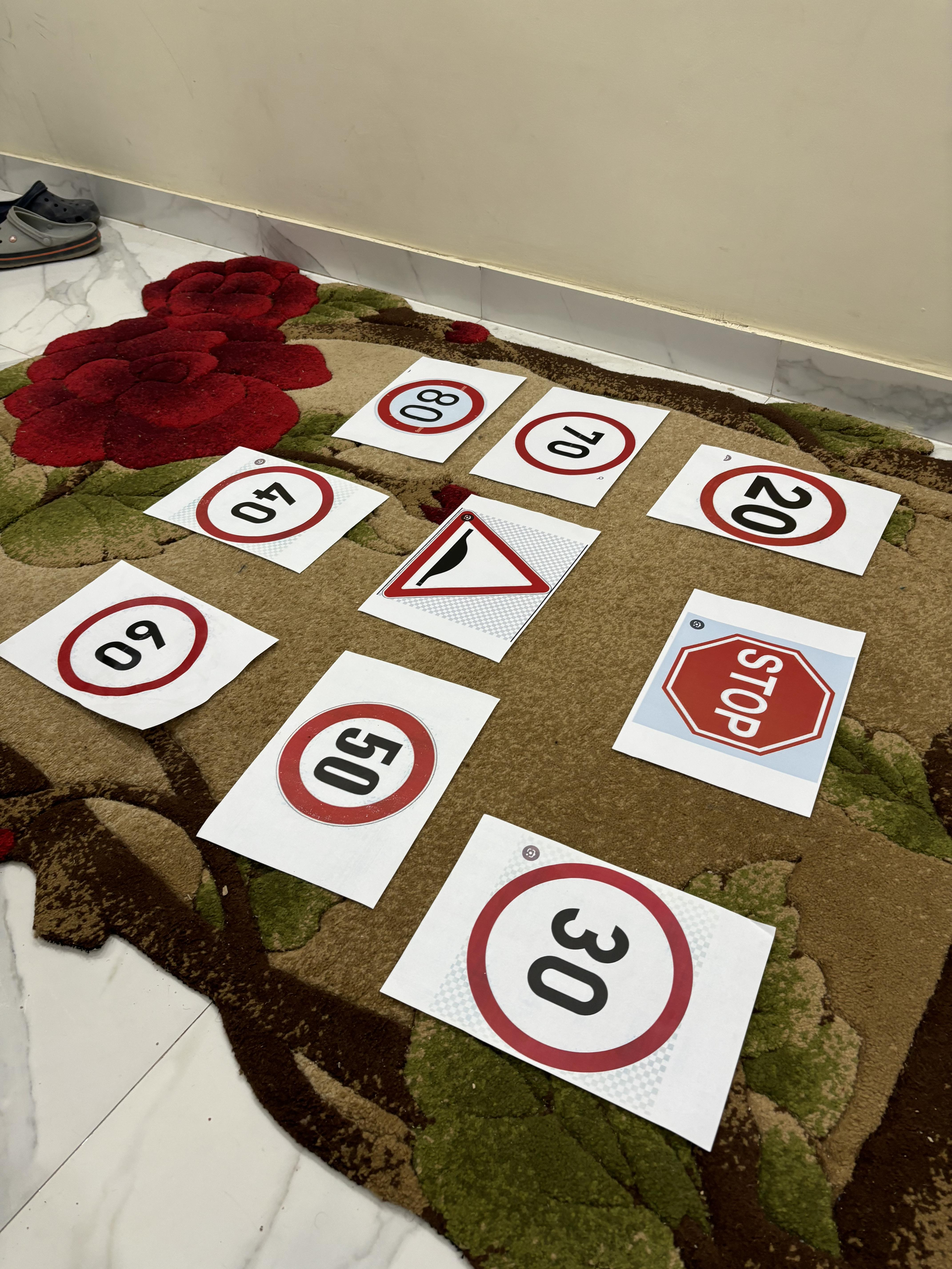20-Speed: (701, 460, 858, 550)
30-speed: (463, 862, 709, 1082)
40-Speed: (196, 460, 334, 545)
50-Speed: (285, 694, 440, 835)
60-Speed: (54, 585, 212, 703)
70-Speed: (507, 403, 652, 477)
80-Speed: (374, 367, 494, 445)
Hump: (381, 507, 554, 611)
Stop: (660, 623, 852, 778)
